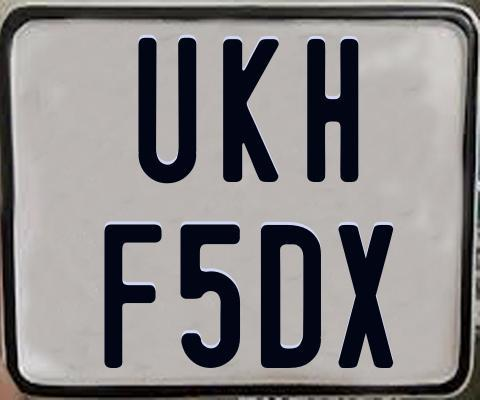5: (177, 221, 237, 366)
D: (258, 225, 321, 374)
F: (103, 221, 167, 371)
H: (307, 38, 362, 185)
K: (223, 39, 283, 188)
U: (136, 37, 194, 187)
X: (337, 222, 398, 370)
